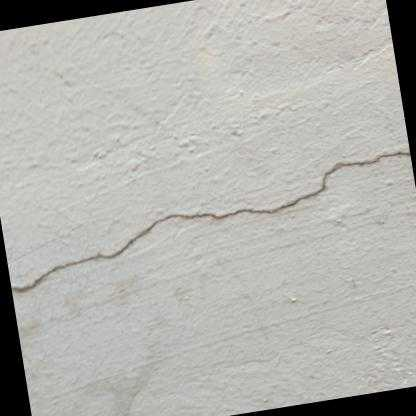crack: (9, 150, 410, 293)
